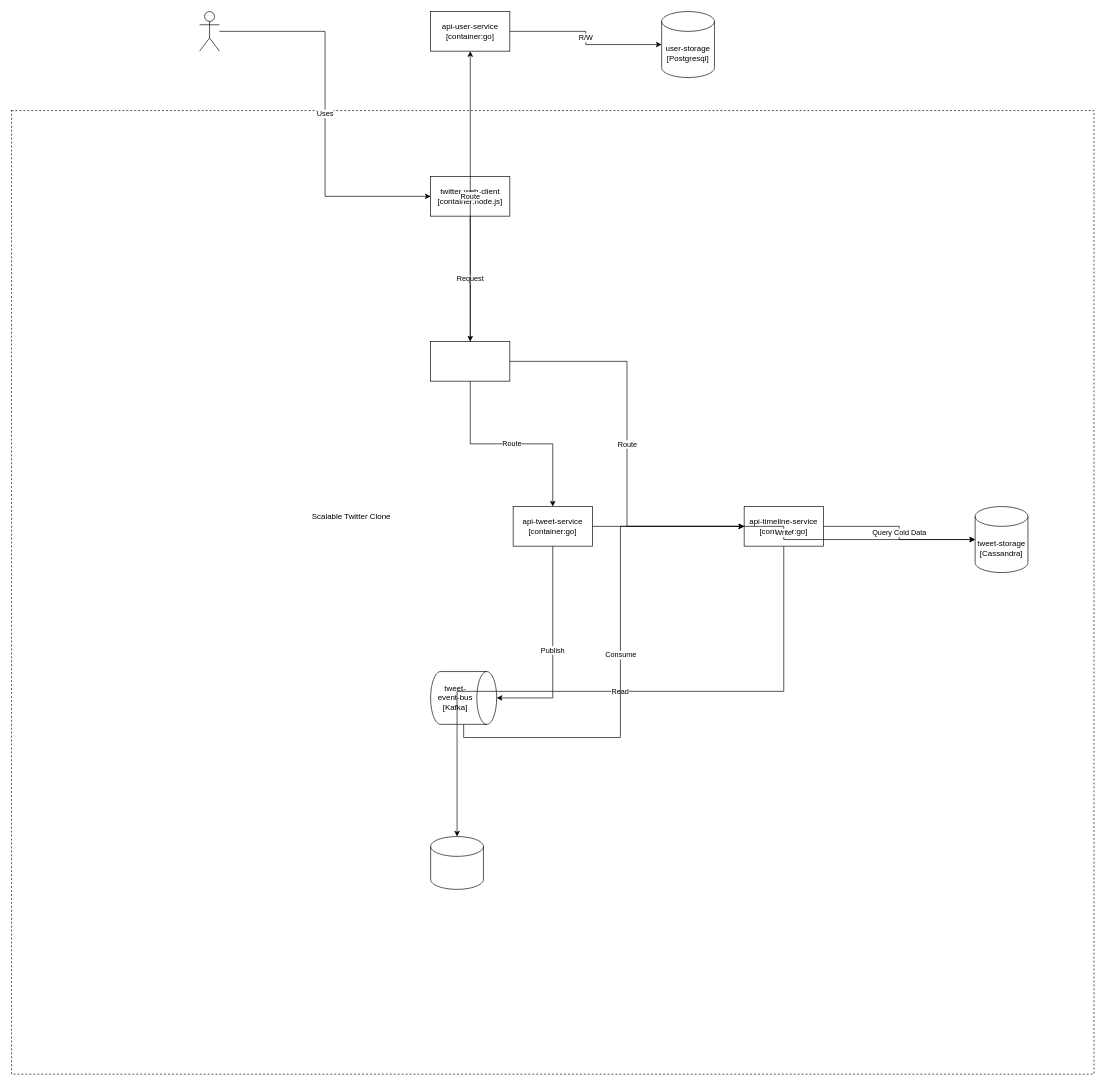
Some shapes in this 1106 by 1086 pixel diagram are drawn without their labels. The shapes that lost their labels are listed below. From the top down, each one's box as (x1, y1, x2, y2) in pixels, then its label:
(199, 11, 219, 51): User
(430, 341, 510, 381): api-gateway [container:go]
(430, 836, 483, 889): timeline-cache [Redis]
